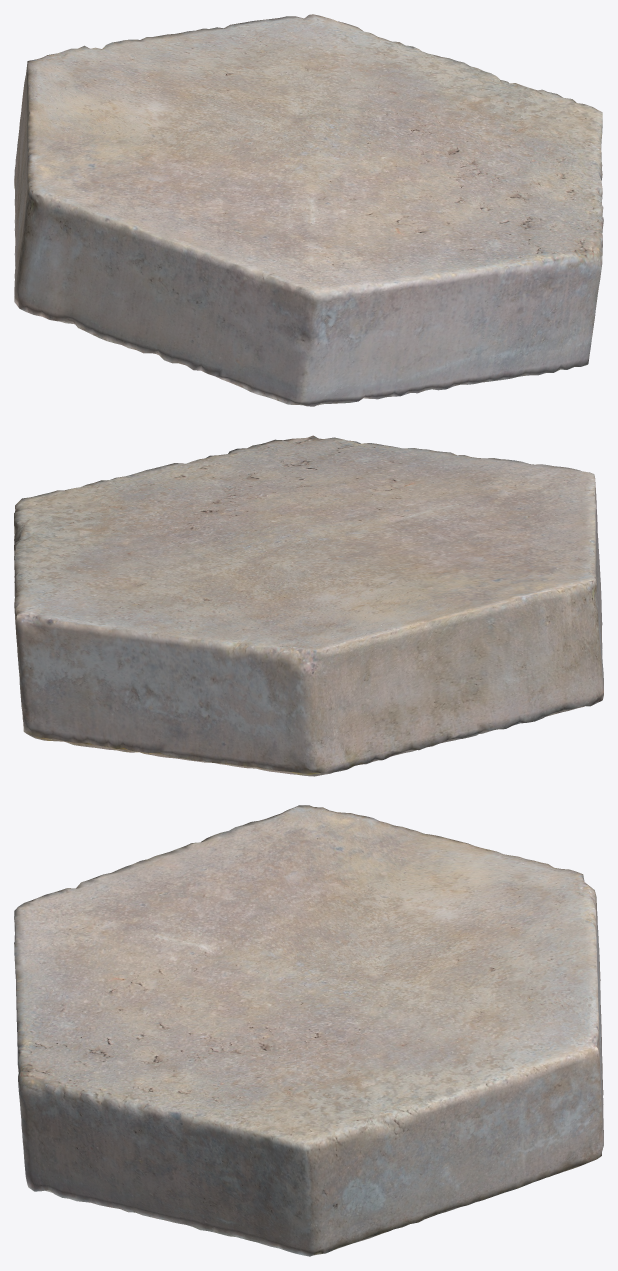
The model's file is stein_low_fbx.glb.
The picture shows the model from 3 angles, top to bottom: view 1: azimuth 30°, elevation 25°; view 2: azimuth 150°, elevation 25°; view 3: azimuth 270°, elevation 25°; orthographic projection.
Visible parts, largest first — view 1: Model; view 2: Model; view 3: Model.
Part boxes in pixels (x1,y1,x2,y2): Model: (14,14,603,406); Model: (14,435,603,776); Model: (14,805,603,1256).
Bounding box in the file's own units: 1.39 × 0.4191 × 1.21.
Materials: 1 (1 with a texture image).
